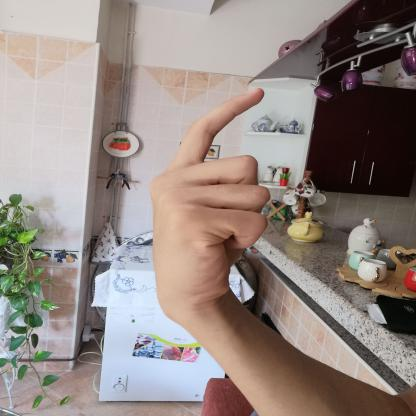RAA: (142, 75, 286, 327)
